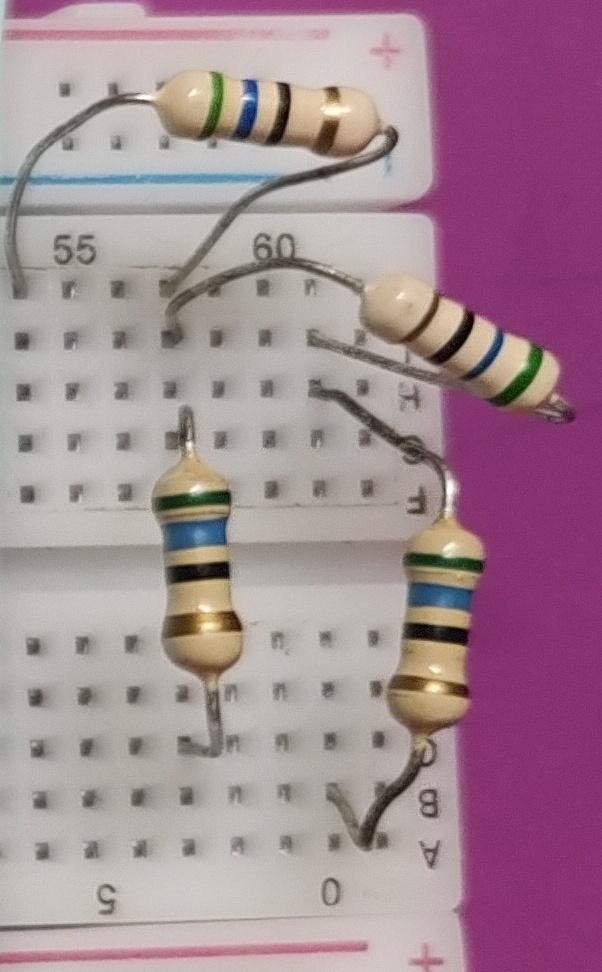resistor: (353, 253, 584, 425), (139, 443, 248, 694), (145, 65, 405, 160), (381, 511, 482, 741)
